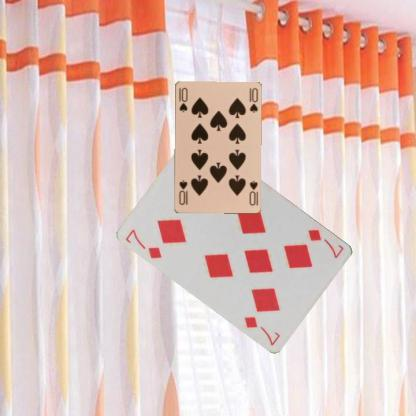10s: (247, 177, 259, 207), (176, 85, 188, 113)
7d: (122, 226, 164, 260), (305, 226, 346, 260)
